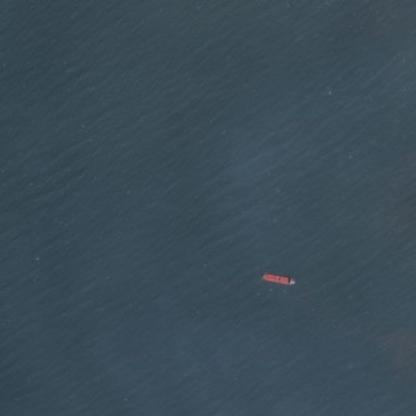ship: (258, 269, 297, 290)
